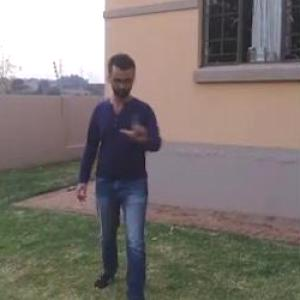land_hand: (119, 106, 151, 145)
